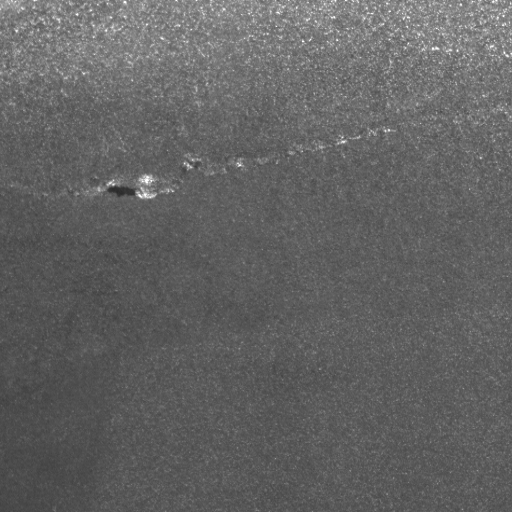aokeng: (101, 168, 176, 203)
